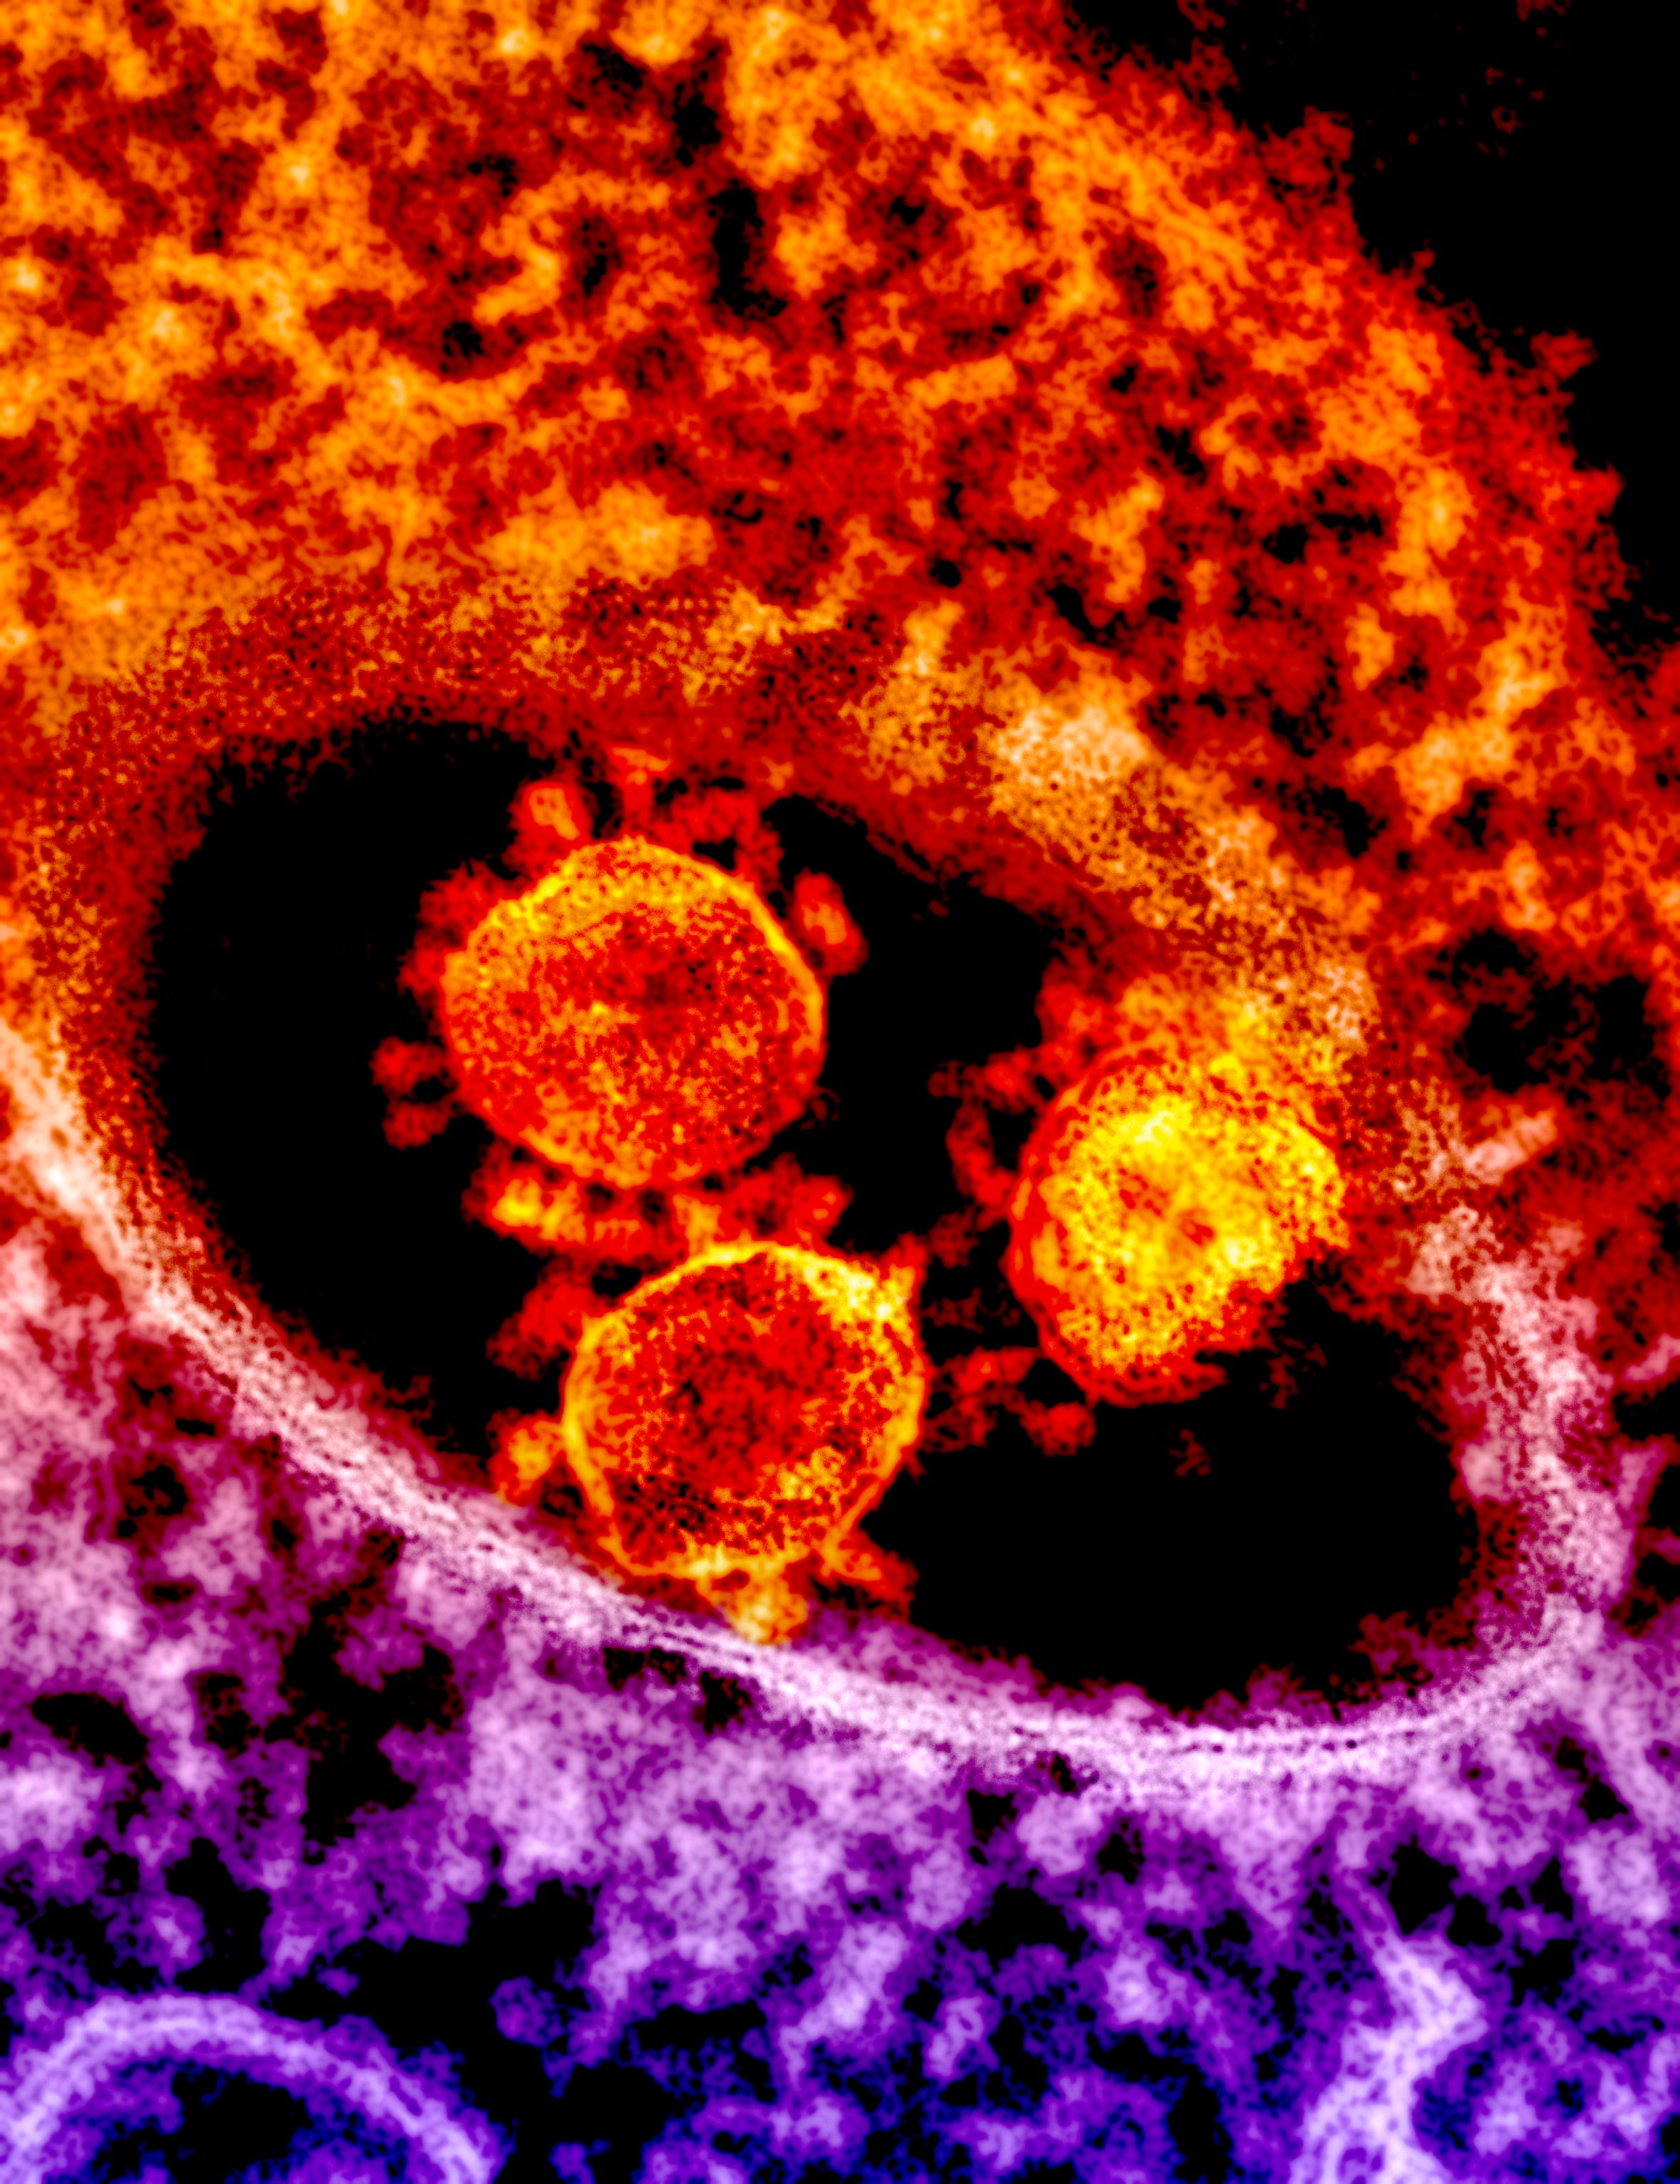COVID19: (279, 293, 1435, 1642)
